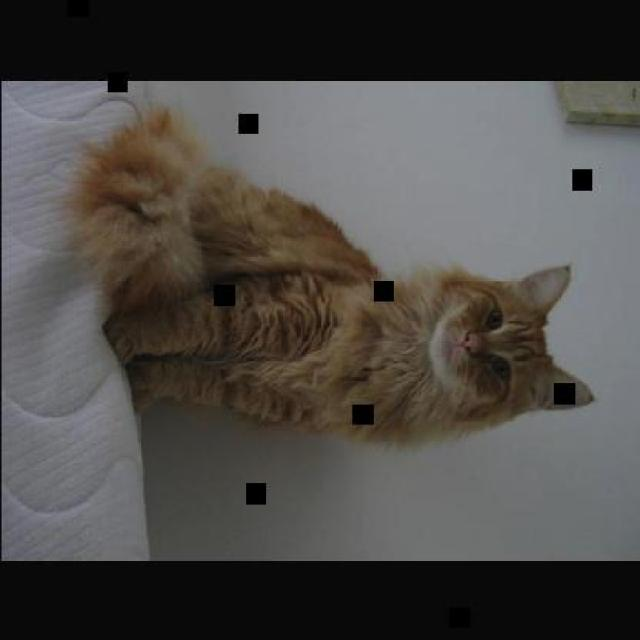unauthorized: (61, 103, 594, 449)
